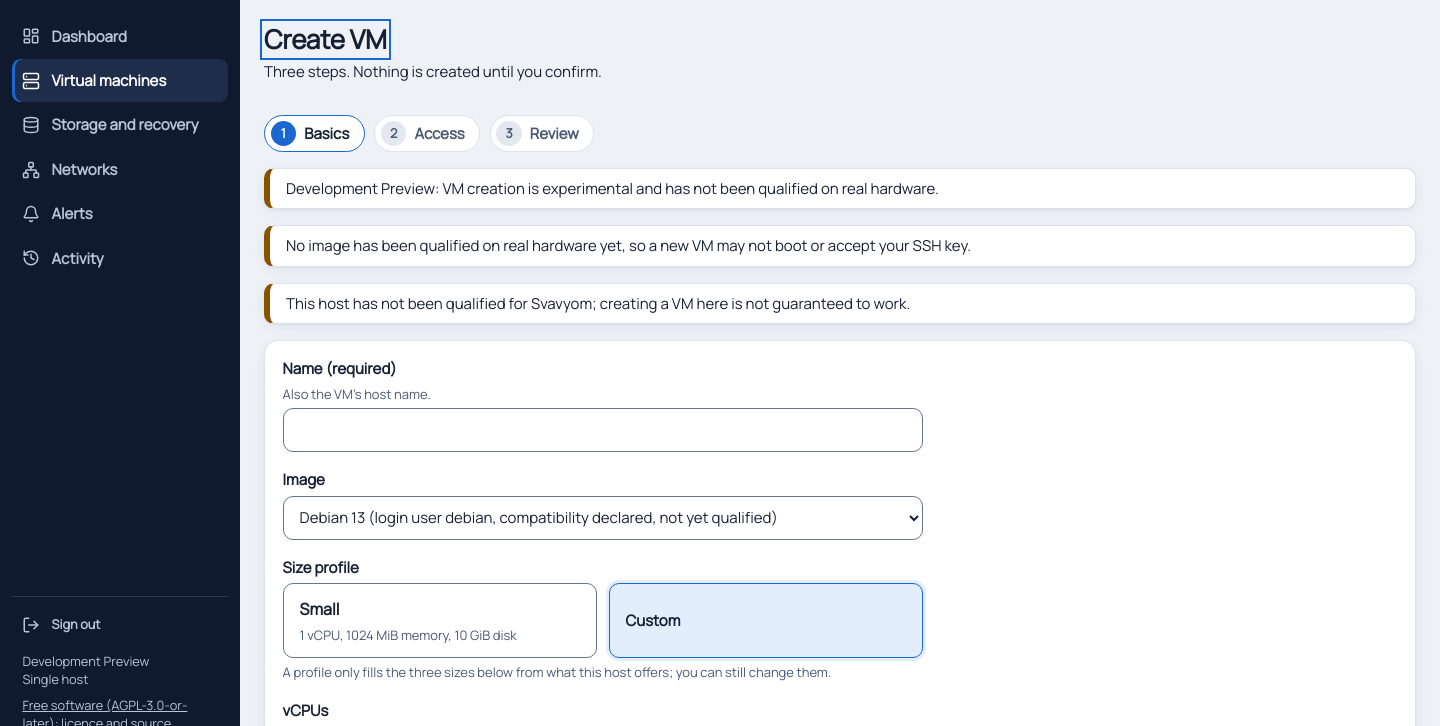
Test: create validation › rejects a bad name and a missing key locally and sends nothing
The width and height of the screenshot is (1440, 726).
Type "Bad_Name" into the field labelled "Name (required)".
click(603, 430); type("Bad_Name")  # box [283,408,923,452]
(page scrolled)
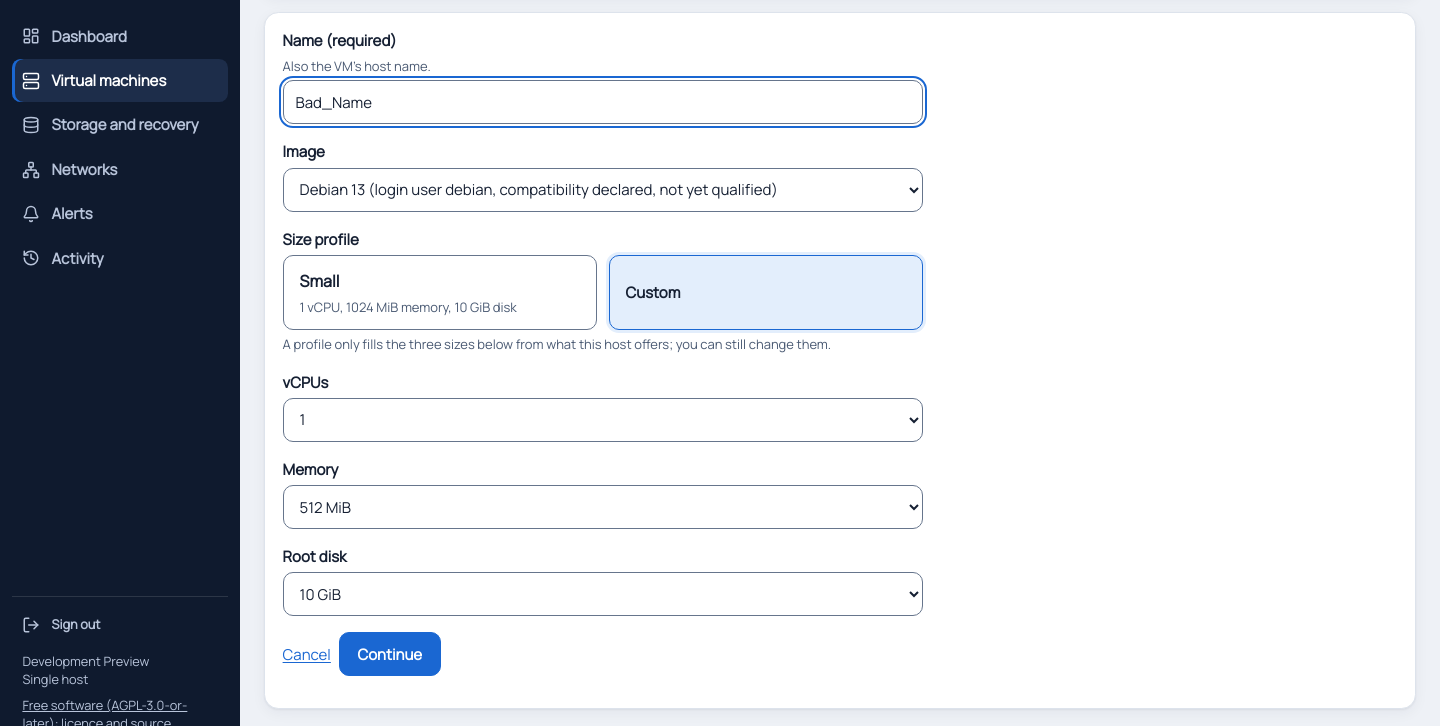
Click the button "Continue".
click(390, 654)  # box [339,632,441,676]
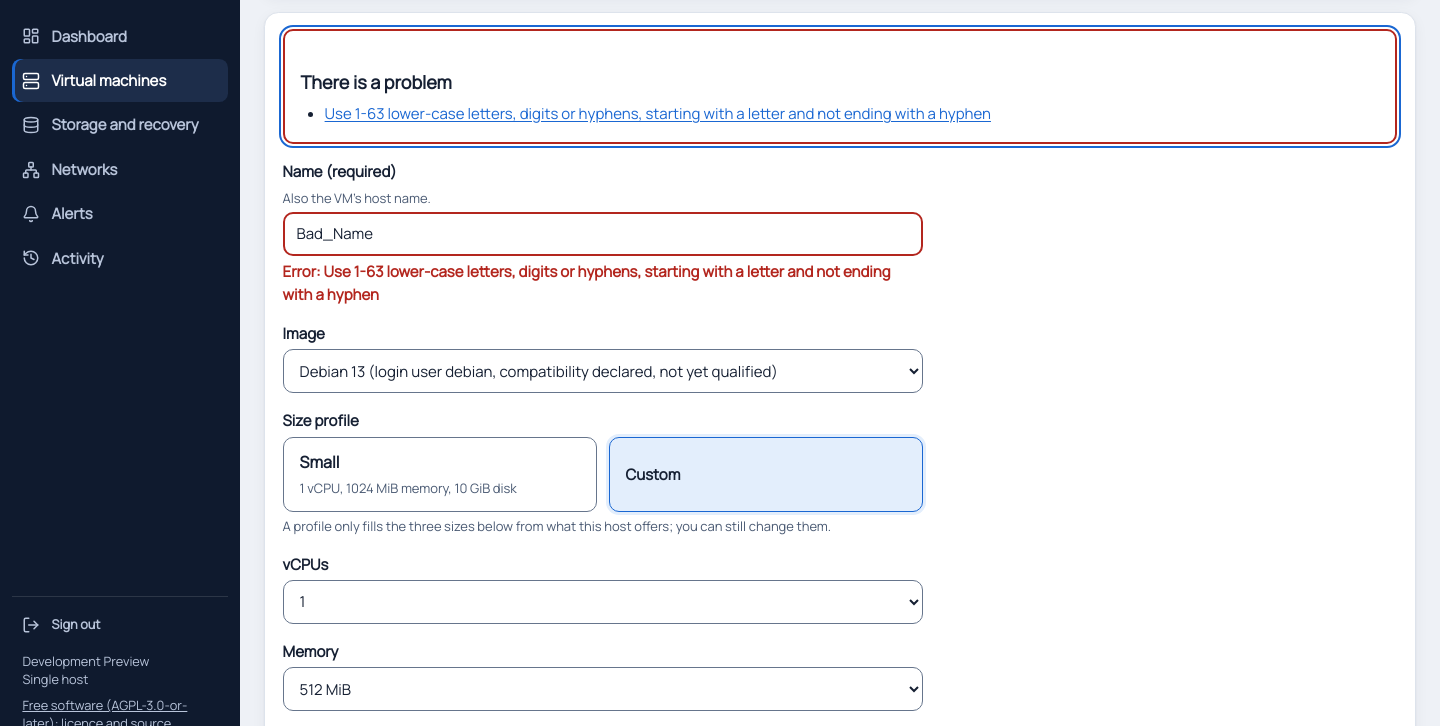
Check: the field labelled "SSH public key" is not shown
Check: the link "lower-case letters, digits or hyphens" is shown, box [325,102,991,126]
Replace the text in the field labelled "Name (required)" with "web-1" at (603, 234), box [283,212,923,256]
(page scrolled)
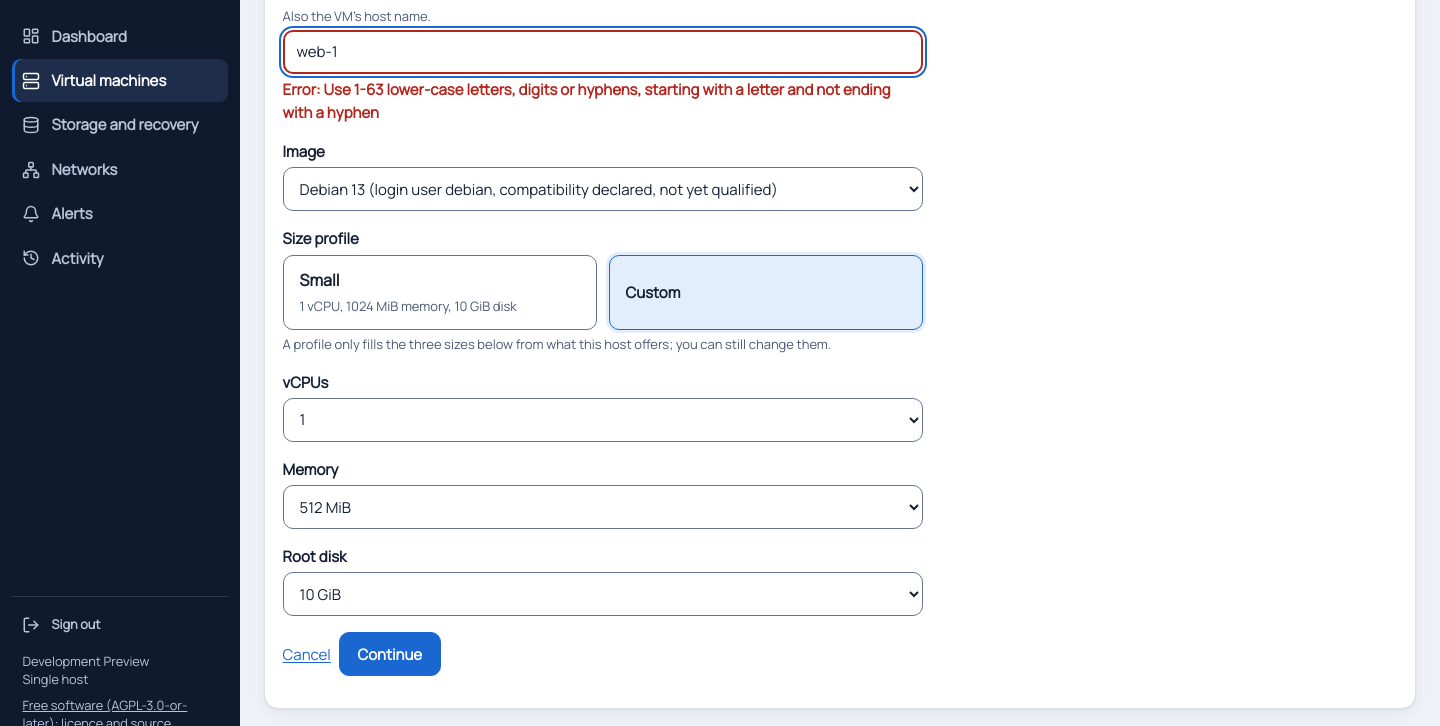
Click the button "Continue".
click(390, 654)  # box [339,632,441,676]
(page scrolled)
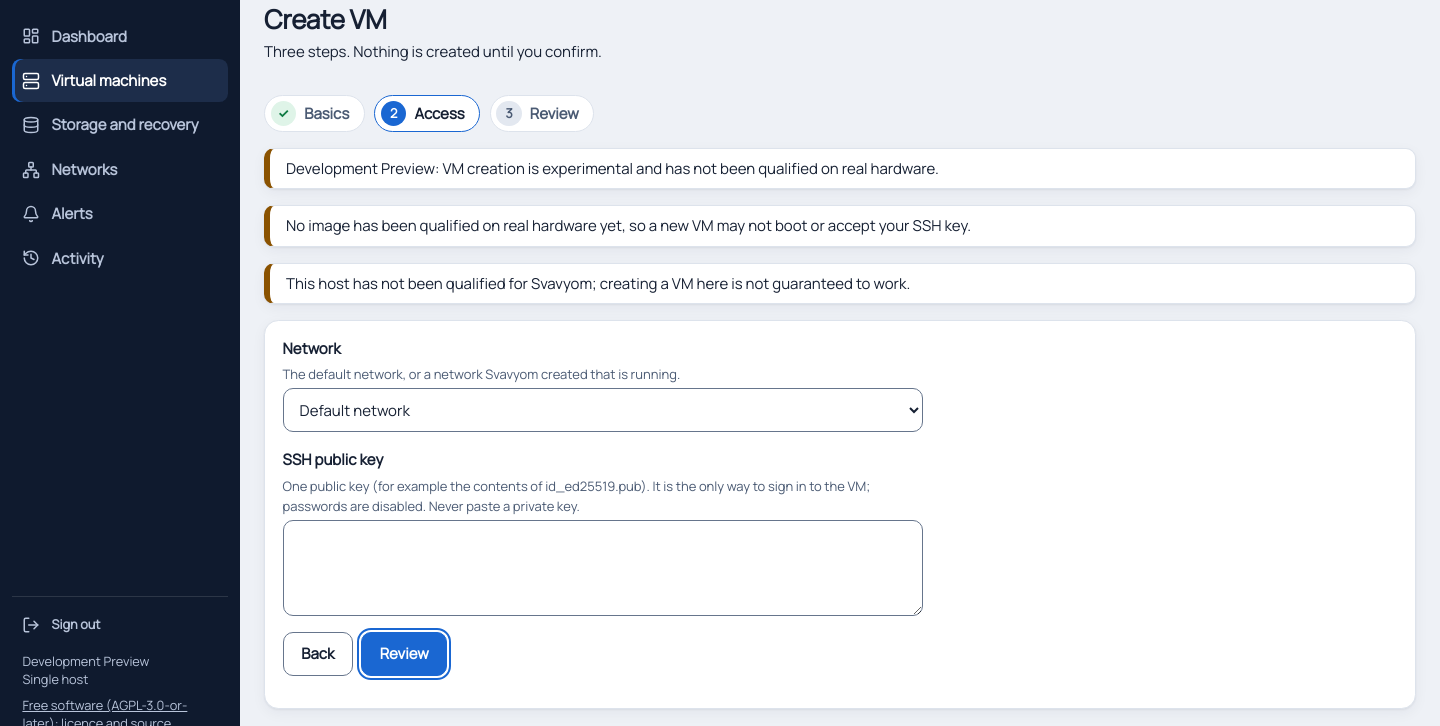
Click the button "Review".
click(404, 654)  # box [361,632,447,676]
(page scrolled)
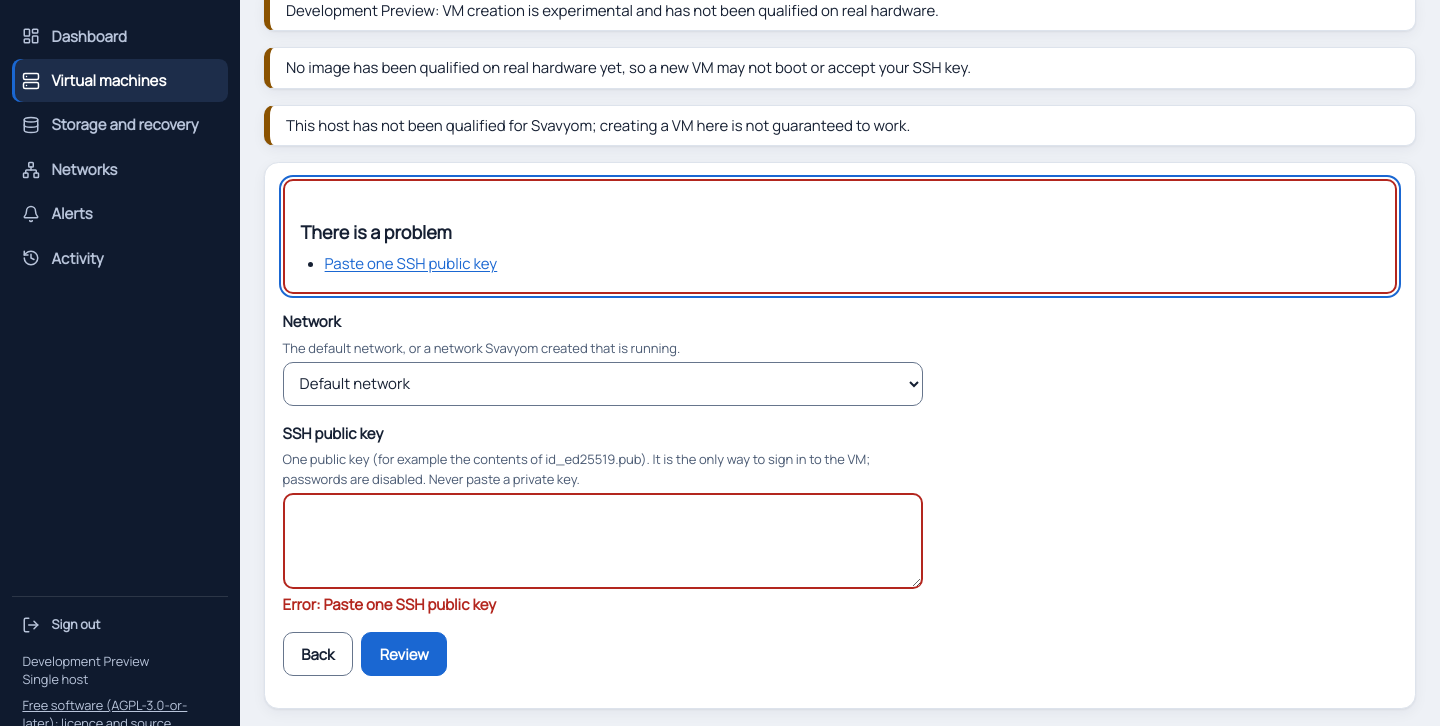
Check: the link "Paste one SSH public key" is shown, box [325,252,497,276]
